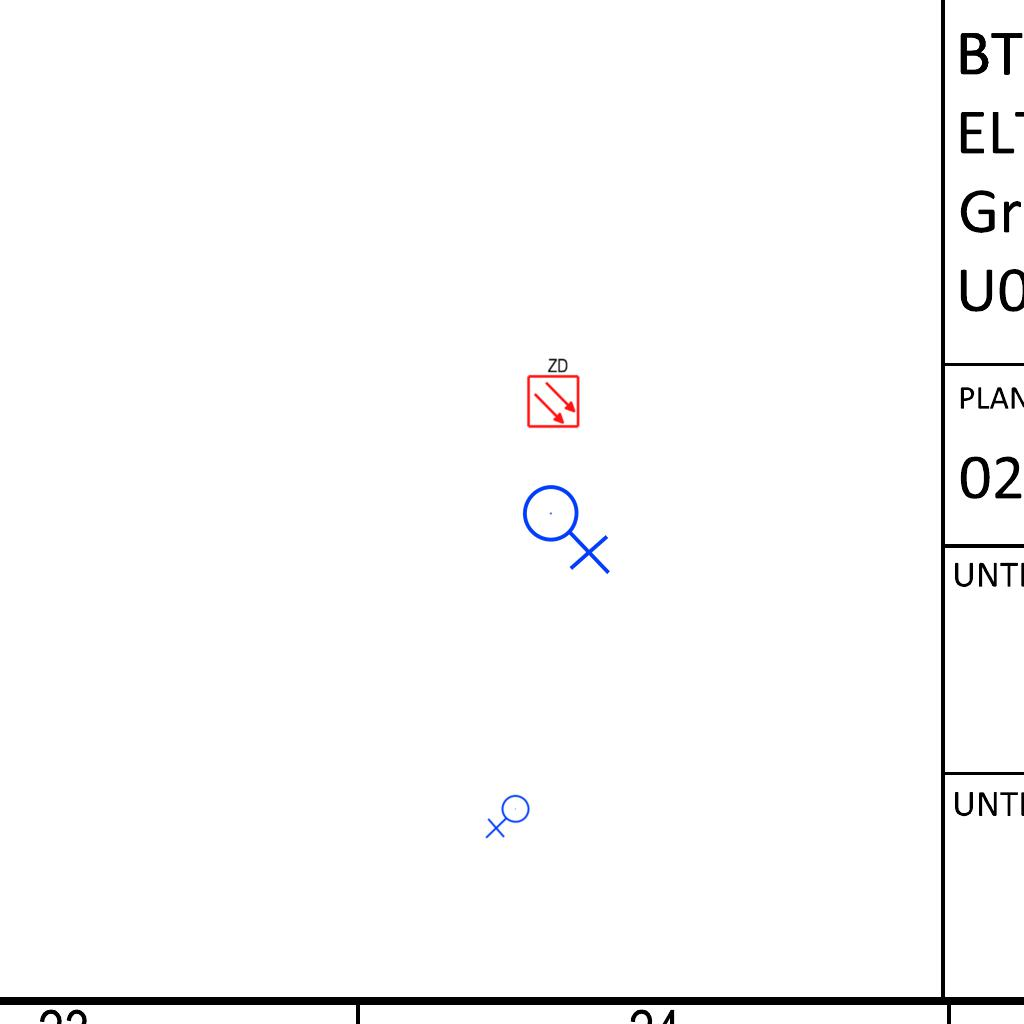Elektroanschluss_allgemein_230V_Geraeteanschlussdose_230V: (521, 476, 615, 575), (485, 794, 534, 841)
ZD_Melder_in_Zwischendecke_mit_Revisionsoeffnung_mind_40_x_40_cm: (524, 355, 581, 429)
